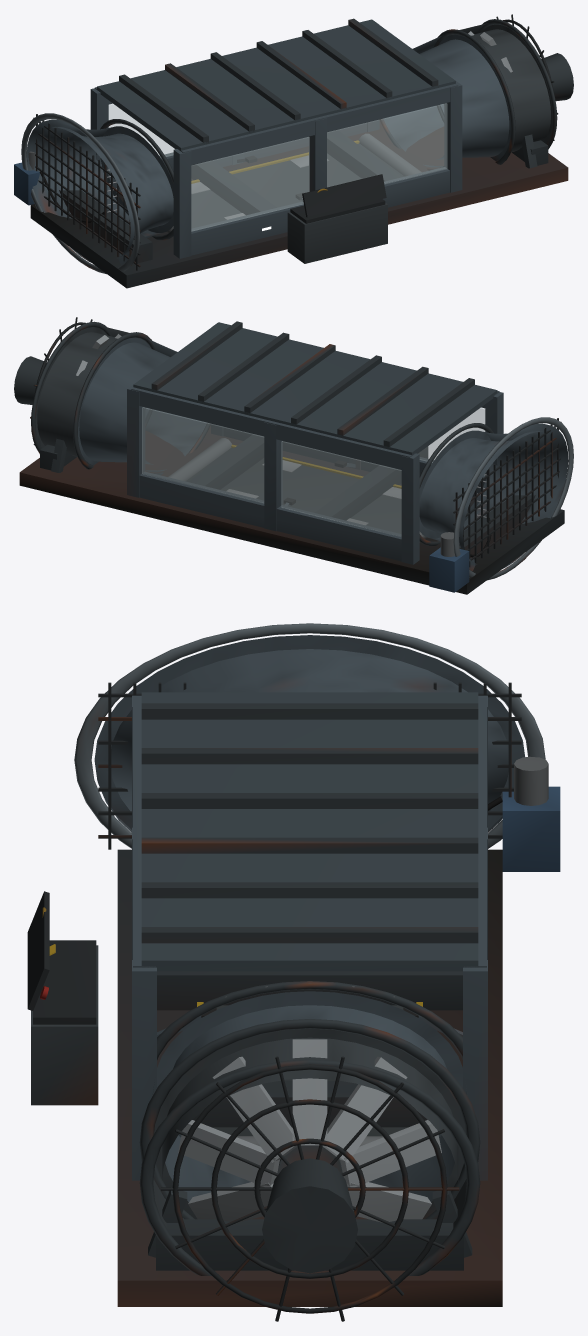
The model's file is wind-tunnel.glb.
3 views of the same model, one above another, from view 1: azimuth 30°, elevation 25°; view 2: azimuth 150°, elevation 25°; view 3: azimuth 270°, elevation 25° (orthographic). The views are drawn at different scales.
Parts seen in each view (by area): view 1: tunnel, belt; view 2: tunnel, belt; view 3: tunnel, fan.
Boxes of the visible parts, x1,y1,x2,y2 form: tunnel: [14, 14, 573, 288]; belt: [167, 133, 421, 236]; tunnel: [14, 317, 573, 594]; belt: [168, 438, 426, 542]; tunnel: [27, 623, 560, 1321]; fan: [178, 1039, 441, 1222].
Bounding box in the file's own units: 11.65 × 3.14 × 5.53.
